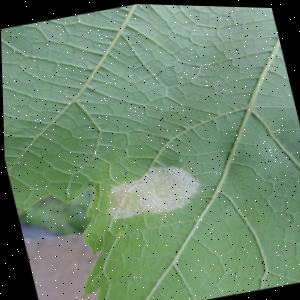Folha: (0, 0, 300, 300)
Fungo: (96, 154, 205, 225)
